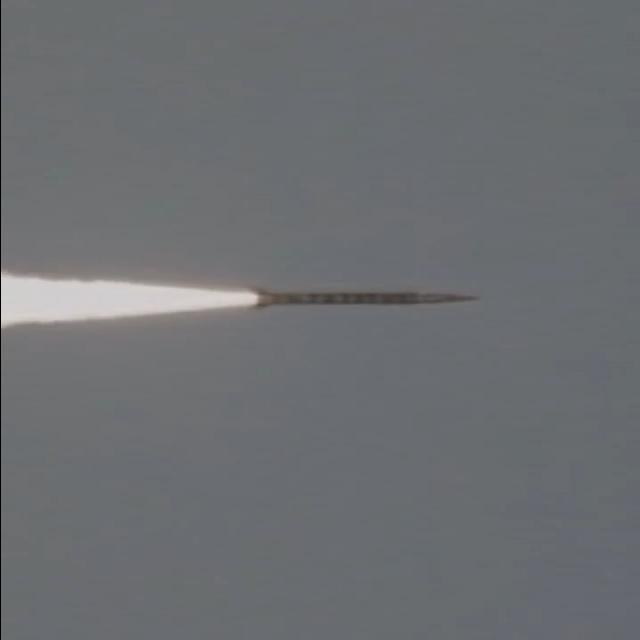missile: (256, 279, 476, 313)
